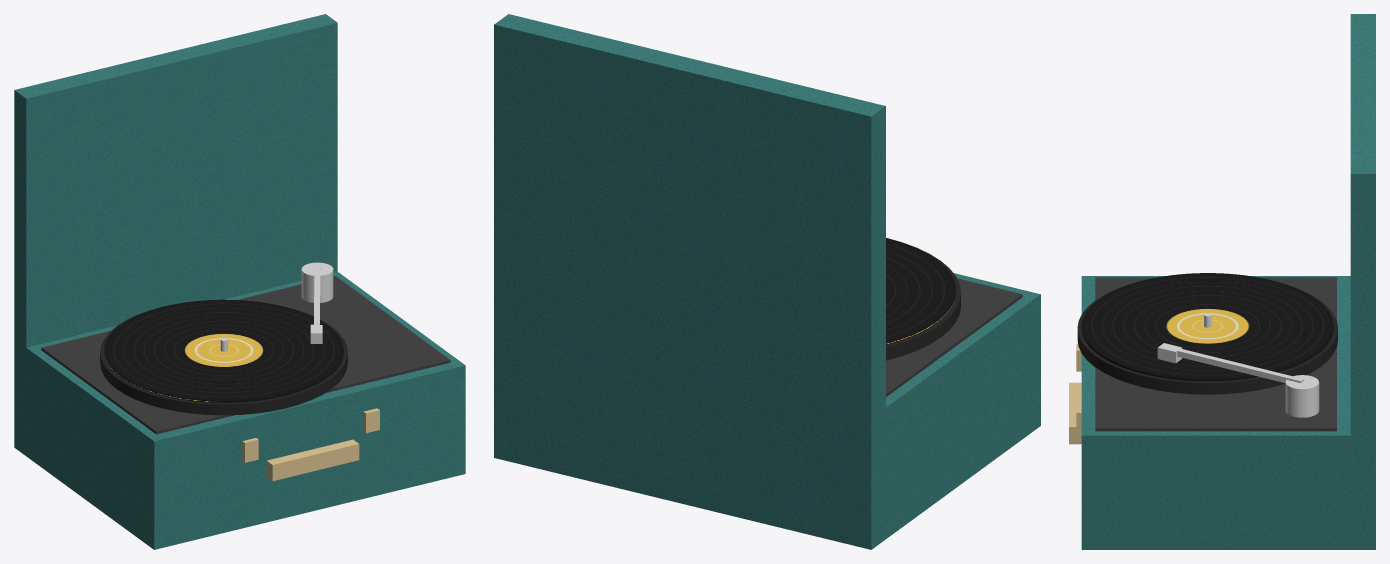
Rendered from obj-suitcase-record-player-teal.glb.
3 views of the same model, side by side, from view 1: azimuth 30°, elevation 25°; view 2: azimuth 150°, elevation 25°; view 3: azimuth 270°, elevation 25° (orthographic). The views are drawn at different scales.
Visible parts, largest first — view 1: obj-suitcase-record-player-teal; view 2: obj-suitcase-record-player-teal; view 3: obj-suitcase-record-player-teal.
Part boxes in pixels (<box>): obj-suitcase-record-player-teal: <box>14,14,465,549</box>; obj-suitcase-record-player-teal: <box>494,14,1040,549</box>; obj-suitcase-record-player-teal: <box>1069,14,1375,549</box>.
Bounding box in the file's own units: 0.36 × 0.395 × 0.292.
Materials: 6 (2 with a texture image).
